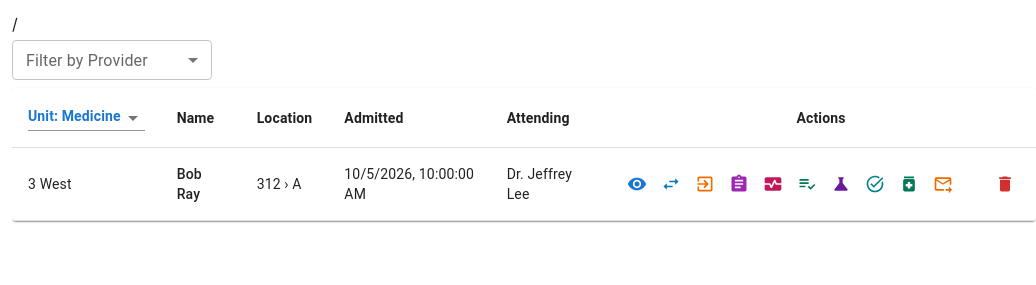
Test: with several facilities the closed filter shows only the unit's name; the open list keeps the facility
This screenshot has width=1036, height=285.
Press the mouse on the dropdown named "Filter by unit": (74, 116) [28, 108, 121, 124]
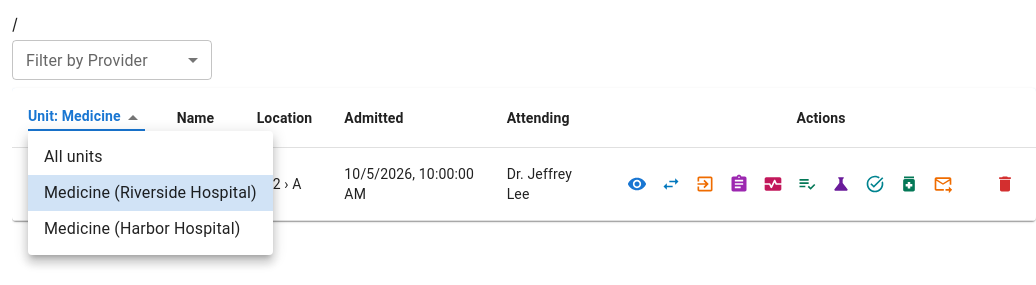
Expected: the options read "All units", "Medicine (Riverside Hospital)", "Medicine (Harbor Hospital)", in this order, [44, 147, 103, 166]; [28, 175, 273, 211]; [44, 219, 240, 238]
